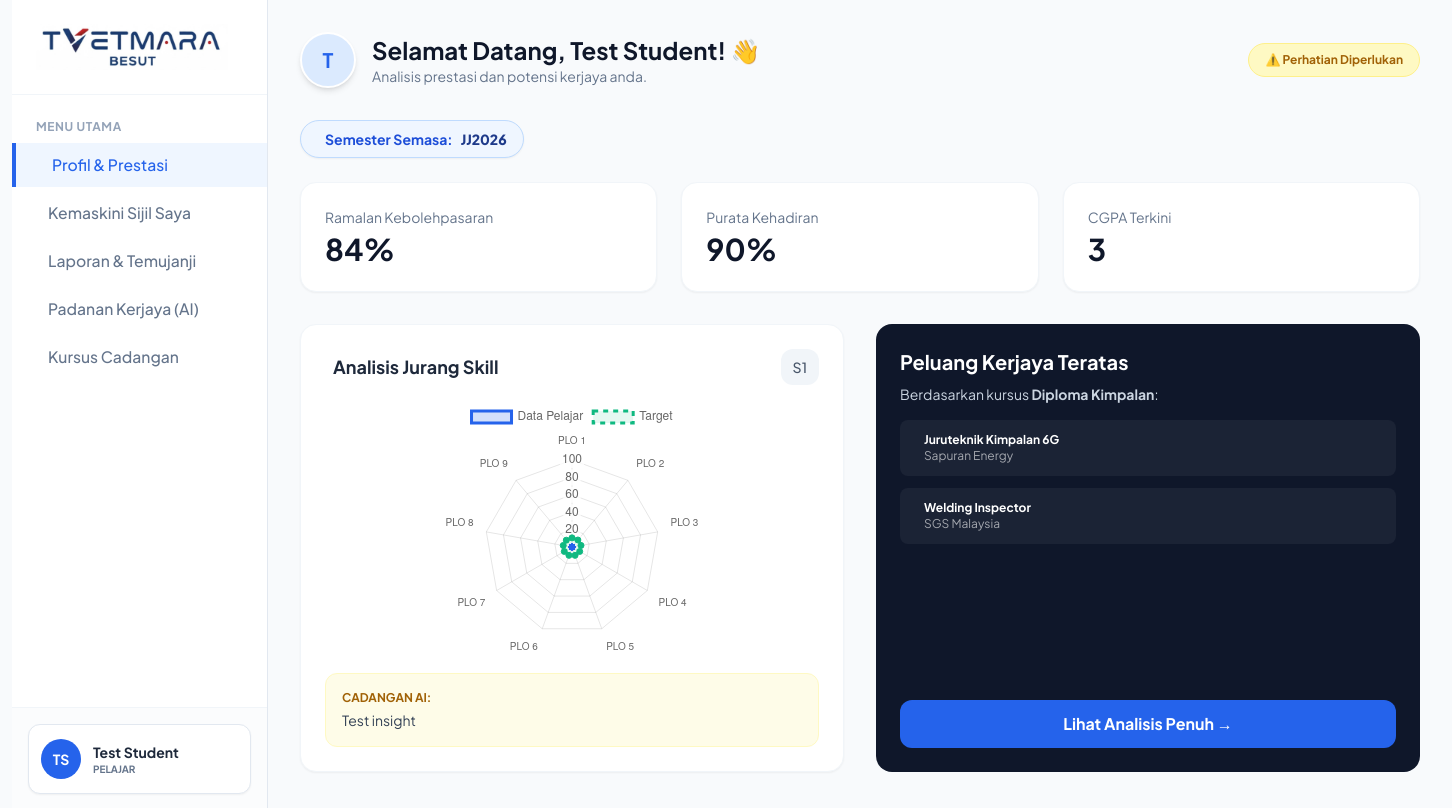
Test: career tab › shows the action plan and preserves suggested location and employment type
Expected: the text "Test insight" is shown, [342,711,416,729]
Click the button "Padanan Kerjaya (AI)" at (140, 309), box [12,287,267,331]
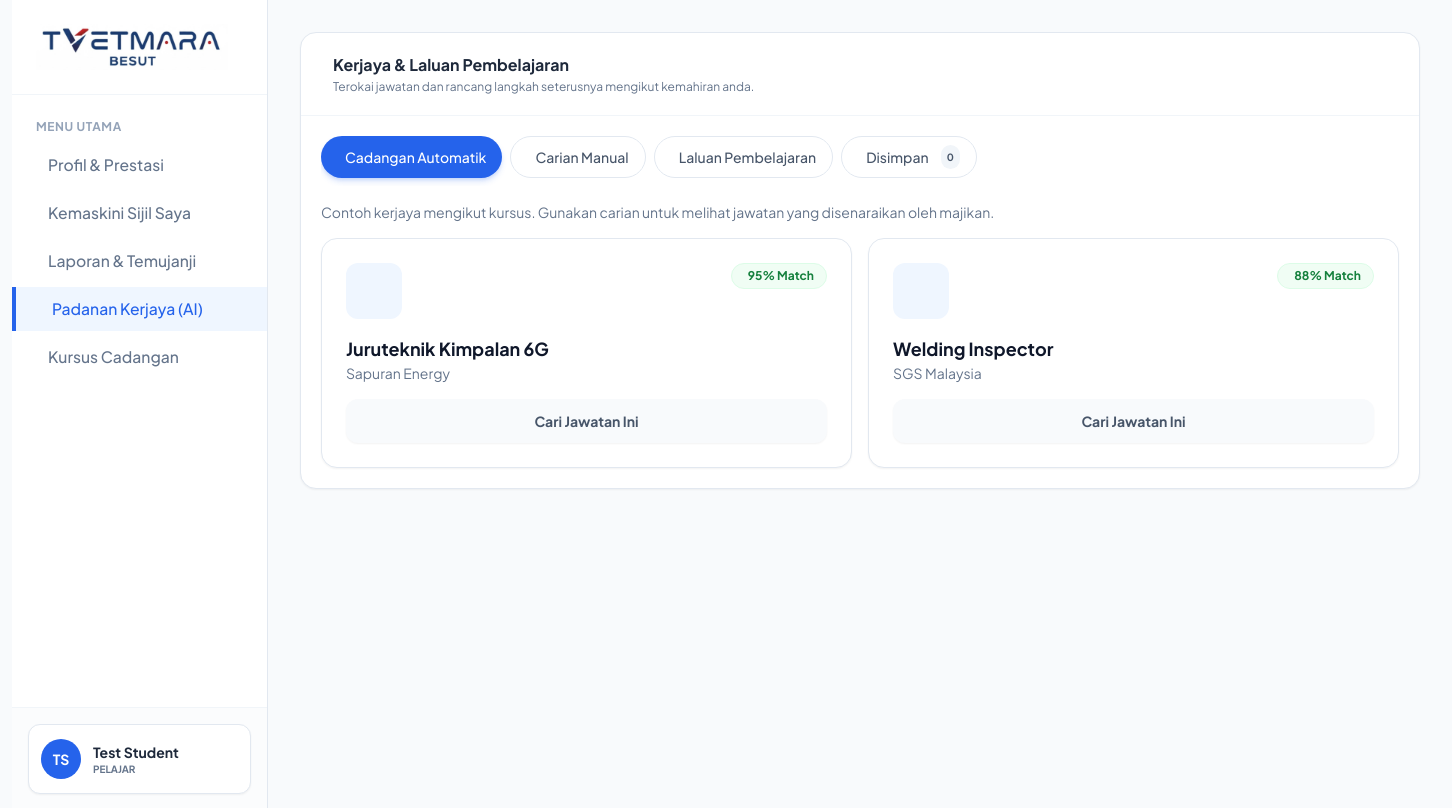
Click the button "Laluan Pembelajaran" at (743, 157), box [654,136,833,178]
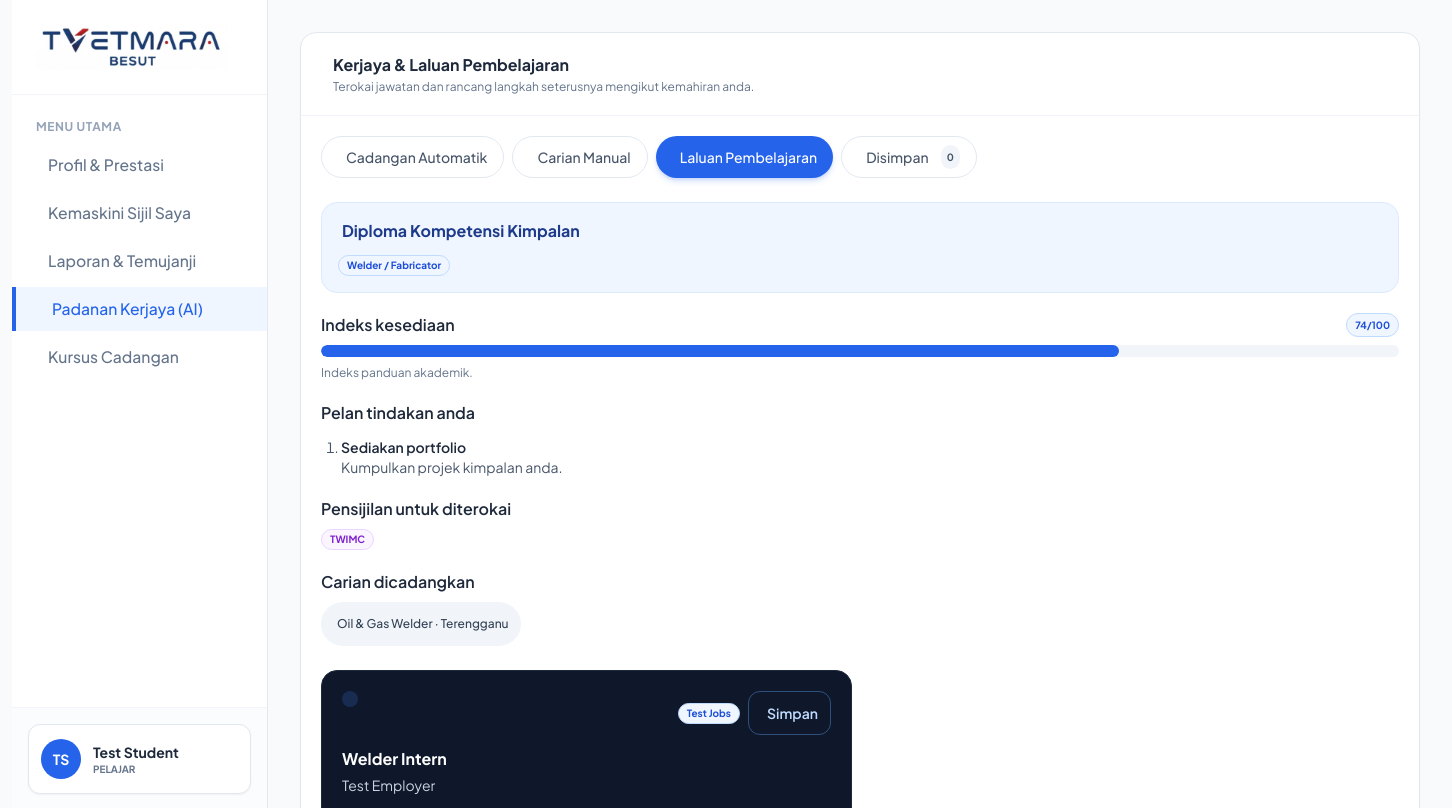
Expected: the text "Sediakan portfolio" is shown, [341,438,466,456]
Click the button "Oil & Gas Welder · Terengganu" at (421, 624), box [321,602,521,646]
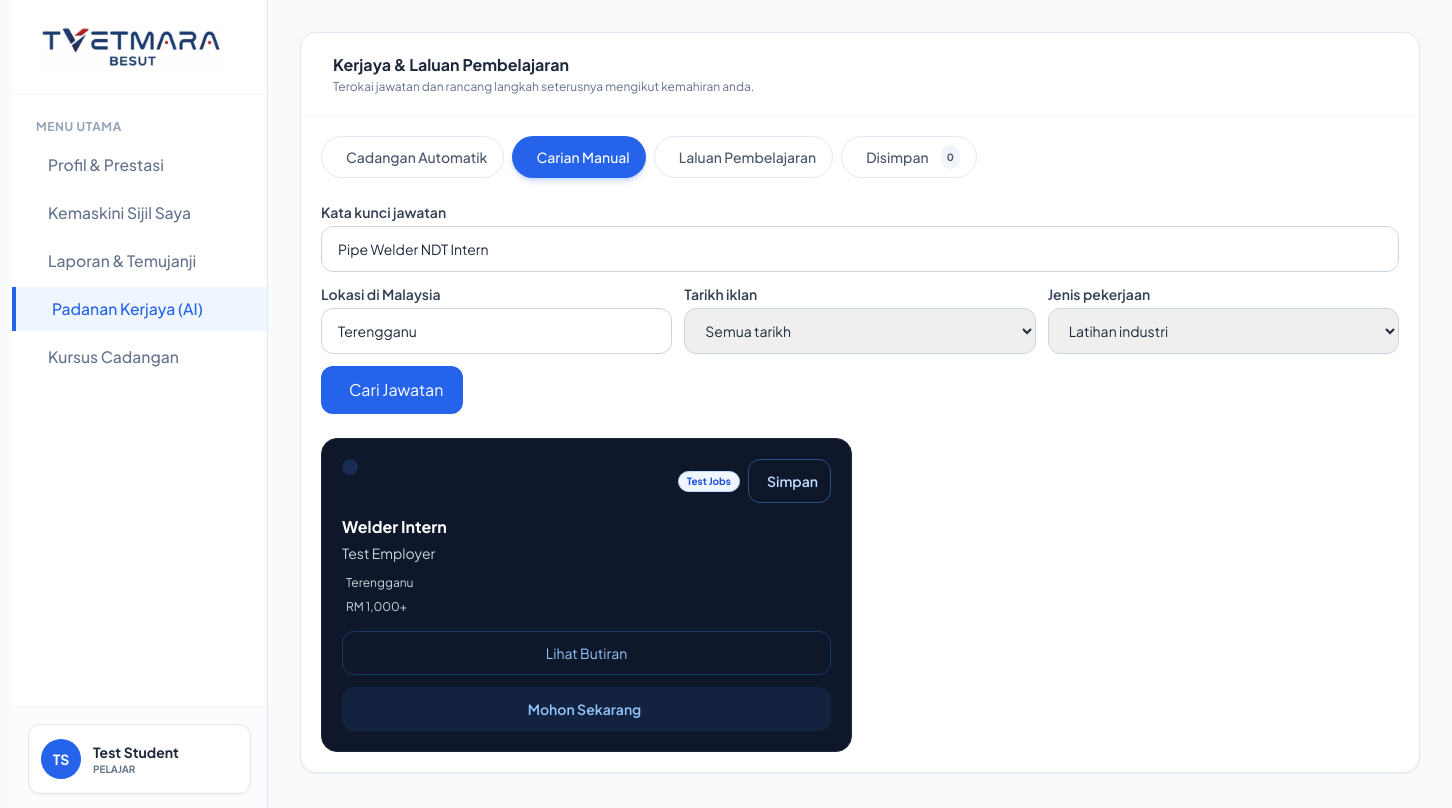
Expected: the dropdown labelled "Kata kunci jawatan" is shown, [321,226,1399,272]
Expected: the field labelled "Lokasi di Malaysia" holds "Terengganu", [321,308,672,354]
